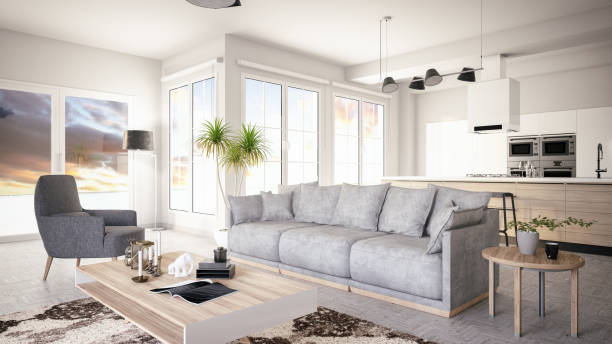chair: (32, 172, 146, 284)
large plant: (194, 115, 268, 193)
side table: (482, 244, 585, 341)
small plant: (507, 212, 597, 256)
sofa: (222, 177, 500, 319)
table: (74, 251, 319, 344)
wall art: (63, 95, 131, 194), (0, 87, 53, 197)
